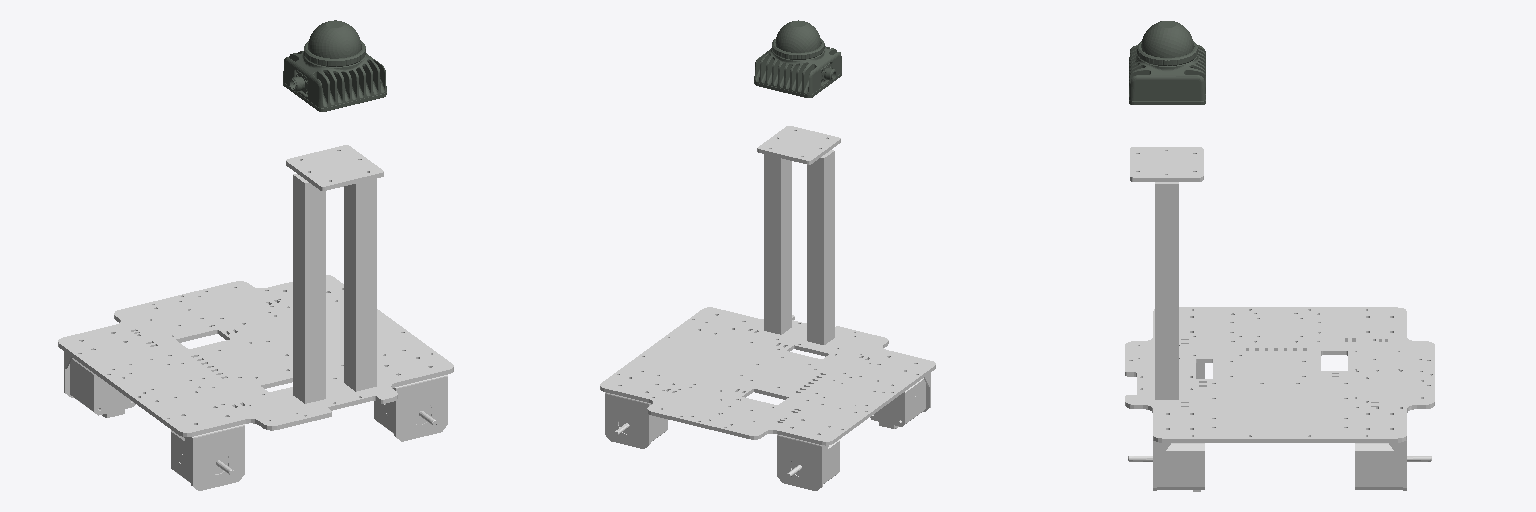
robot.urdf — robot:
<?xml version="1.0" encoding="utf-8"?>
<!-- This URDF was automatically created by SolidWorks to URDF Exporter! Originally created by Stephen Brawner (brawner@gmail.com) 
     Commit Version: v1.0.4-1-gcaeea21-dirty  Build Version: 1.6.9673.41765
     For more information, please see http://wiki.ros.org/sw_urdf_exporter -->
<robot
  name="robot">
  <link
    name="base_link">
    <inertial>
      <origin
        xyz="0.0312921596602111 -0.0115661118038478 0.131273218493054"
        rpy="0 0 0" />
      <mass
        value="2.34291090302096" />
      <inertia
        ixx="0.00478919580810954"
        ixy="-6.4330402399293E-05"
        ixz="1.7743869327267E-05"
        iyy="0.00415530364403736"
        iyz="-8.25533258279872E-07"
        izz="0.00530589645236251" />
    </inertial>
    <visual>
      <origin
        xyz="0 0 0"
        rpy="0 0 0" />
      <geometry>
        <mesh
          filename="package://robot/meshes/base_link.STL" />
      </geometry>
      <material
        name="">
        <color
          rgba="0.894117647058823 0.894117647058823 0.894117647058823 1" />
      </material>
    </visual>
    <collision>
      <origin
        xyz="0 0 0"
        rpy="0 0 0" />
      <geometry>
        <mesh
          filename="package://robot/meshes/base_link.STL" />
      </geometry>
    </collision>
  </link>
  <link
    name="livox_frame">
    <inertial>
      <origin
        xyz="3.33066907387547E-16 -9.08995101411847E-16 -0.0235"
        rpy="0 0 0" />
      <mass
        value="0.190304028239138" />
      <inertia
        ixx="9.9063074899511E-05"
        ixy="1.28238122709883E-17"
        ixz="1.14162311572991E-20"
        iyy="9.9063074899511E-05"
        iyz="-6.79980891081335E-21"
        izz="0.000128062550068978" />
    </inertial>
    <visual>
      <origin
        xyz="0 0 0"
        rpy="0 0 0" />
      <geometry>
        <mesh
          filename="package://robot/meshes/livox_frame.STL" />
      </geometry>
      <material
        name="">
        <color
          rgba="0.388235294117647 0.419607843137255 0.388235294117647 1" />
      </material>
    </visual>
    <collision>
      <origin
        xyz="0 0 0"
        rpy="0 0 0" />
      <geometry>
        <mesh
          filename="package://robot/meshes/livox_frame.STL" />
      </geometry>
    </collision>
  </link>
  <joint
    name="livox_frame"
    type="fixed">
    <origin
      xyz="0.0200000000000045 -0.0949999999999872 0.3228"
      rpy="0 0 0" />
    <parent
      link="base_link" />
    <child
      link="livox_frame" />
    <axis
      xyz="0 0 0" />
  </joint>
</robot>

--- Render facts (derived) ---
Views: 3 orthographic renders of the robot side by side, from view 1: azimuth 30°, elevation 25°; view 2: azimuth 150°, elevation 25°; view 3: azimuth 270°, elevation 25°.
Model robot with 2 links and 1 joints (1 fixed), rooted at base_link, posed every joint at zero.
Links seen in each view (by area): view 1: base_link, livox_frame; view 2: base_link, livox_frame; view 3: base_link, livox_frame.
Link boxes in pixels (x1=…): base_link: x1=58, y1=145, x2=453, y2=490; livox_frame: x1=283, y1=20, x2=386, y2=111; base_link: x1=600, y1=126, x2=935, y2=490; livox_frame: x1=754, y1=20, x2=841, y2=97; base_link: x1=1125, y1=147, x2=1434, y2=491; livox_frame: x1=1129, y1=21, x2=1205, y2=104.
Bounding box of the posed robot: 0.26 × 0.26 × 0.3927 m (x, y, z).
Meshes: 2 distinct files referenced, 2 mesh visuals loaded (2 binary STL).
